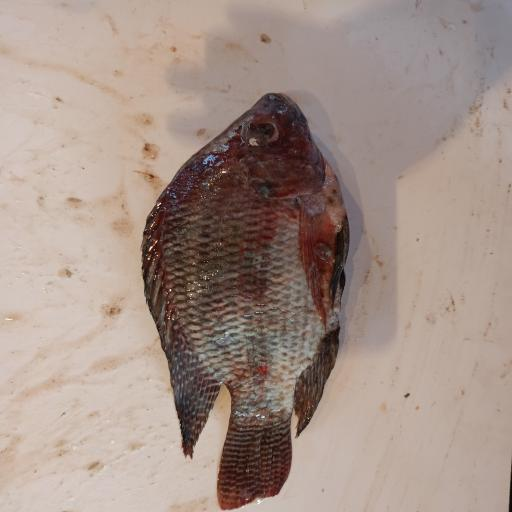Tilapia: (139, 92, 351, 511)
